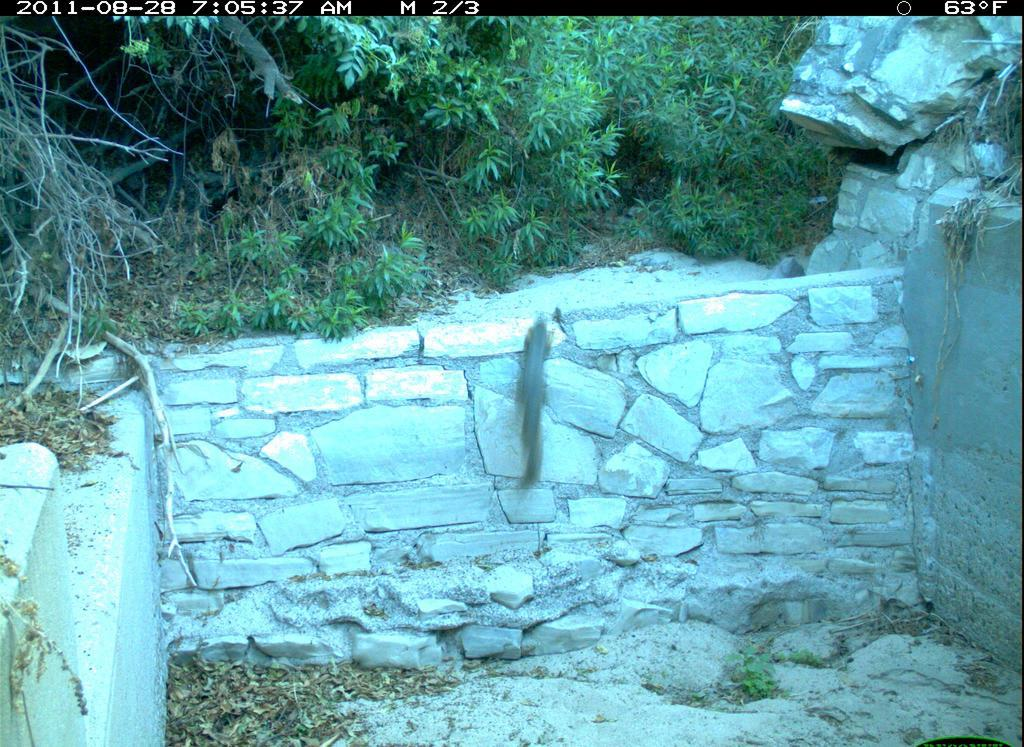squirrel: (495, 304, 588, 505)
